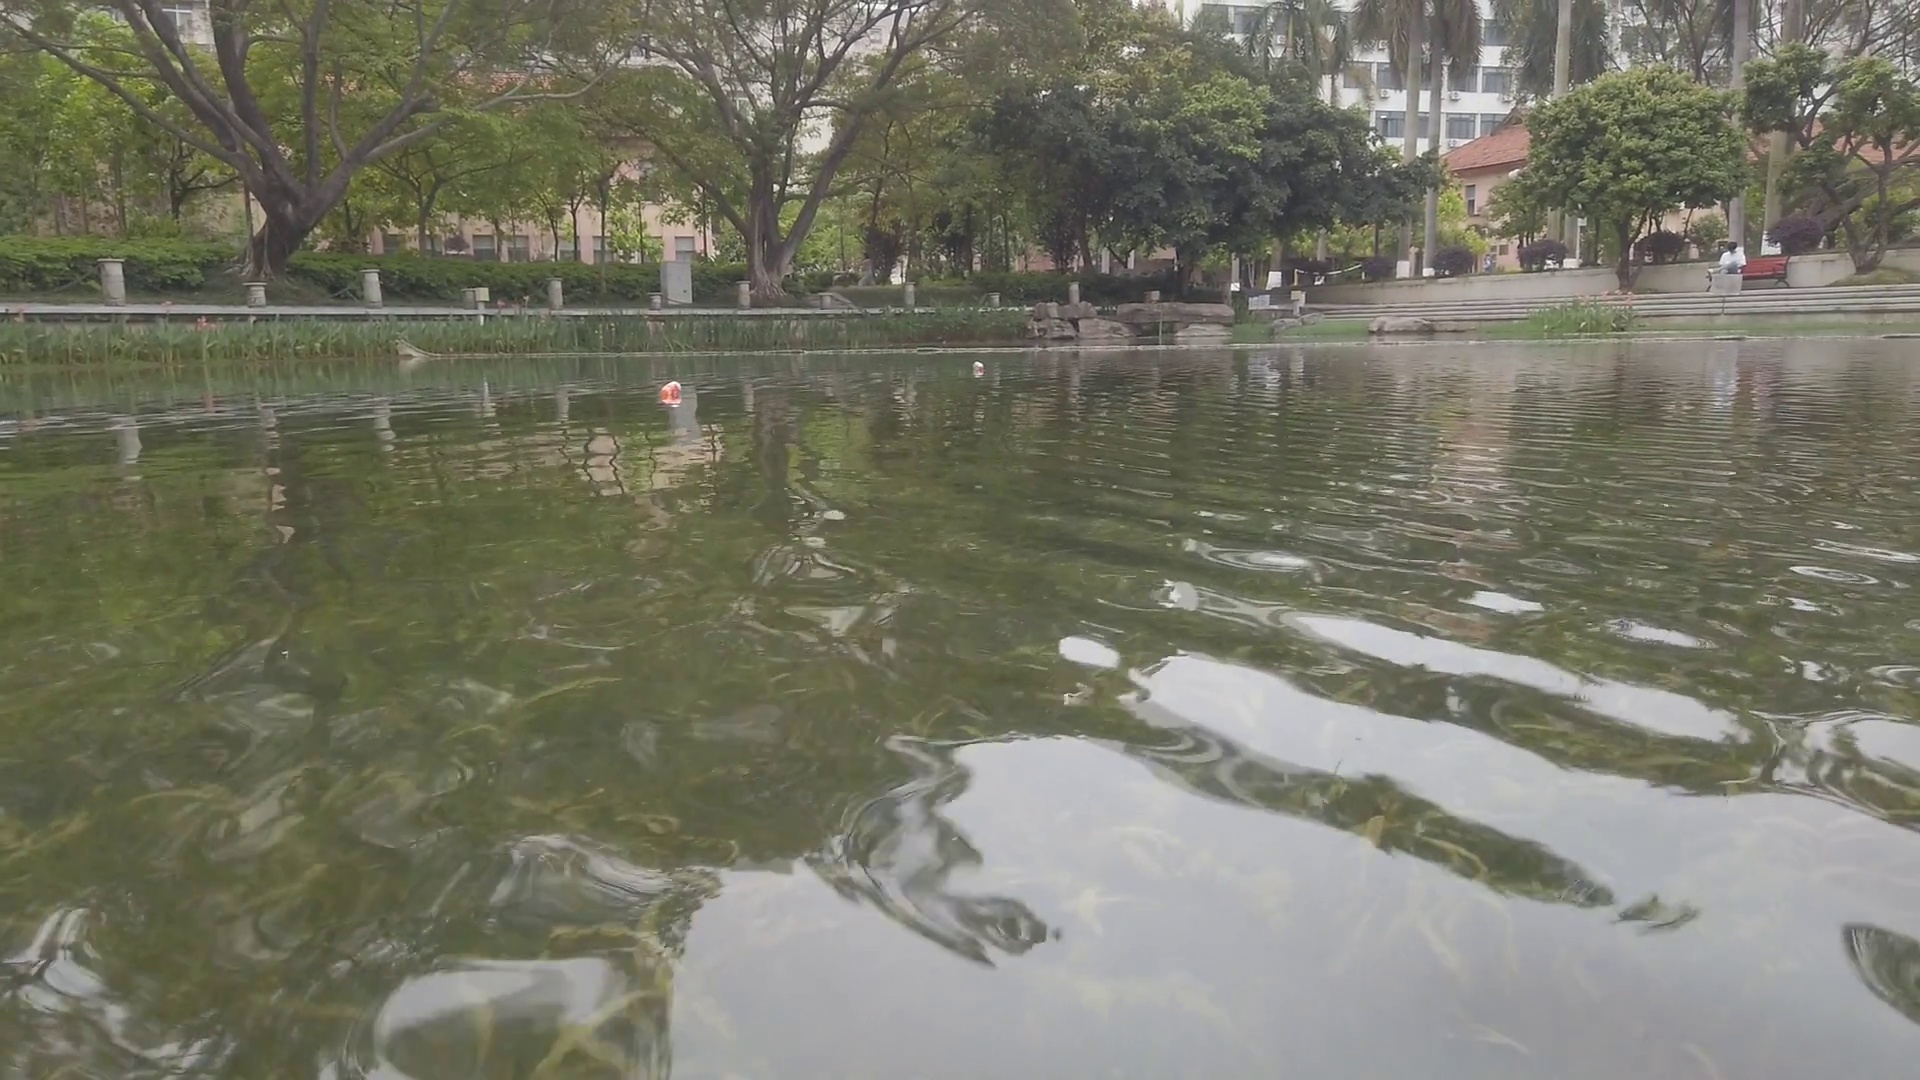bottle: (659, 381, 684, 402), (973, 361, 985, 373)
